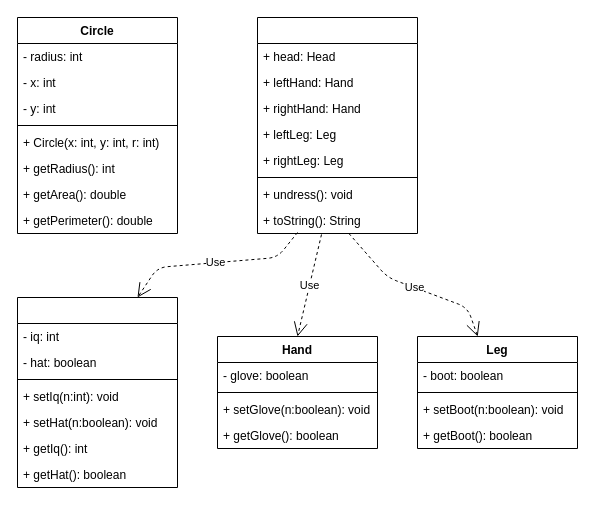
Some shapes in this 595 by 508 pixel diagram are drawn without their labels. The shapes that lost their labels are listed below. From the top down, each one's box as (x1, y1, x2, y2) in pixels, then its label:
(256, 16, 418, 234): Human
(16, 296, 178, 488): Head
